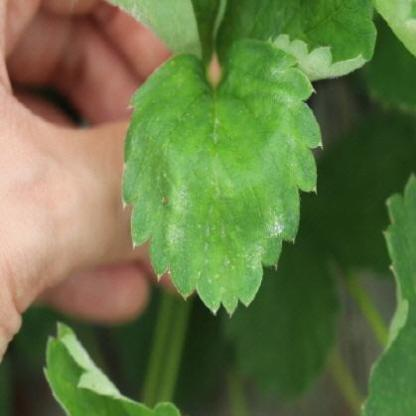Strawberry_Powdery_Mildew_Leaf: (120, 36, 324, 318), (212, 0, 380, 84), (41, 320, 184, 415)
